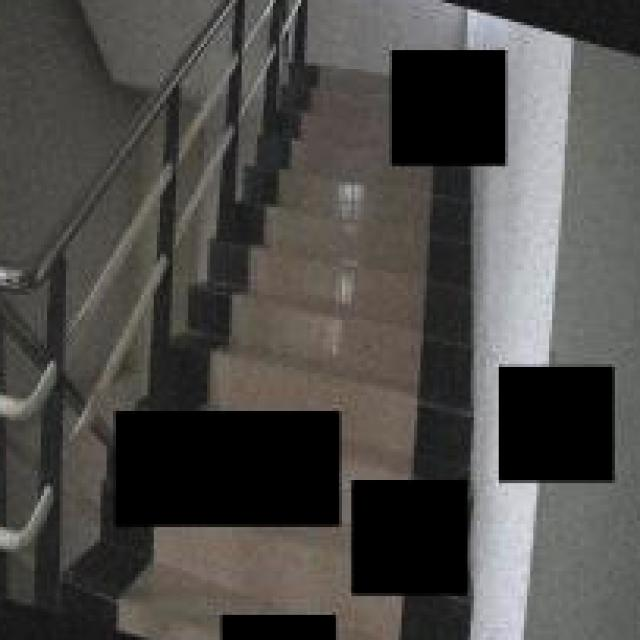upstair: (230, 193, 478, 397)
